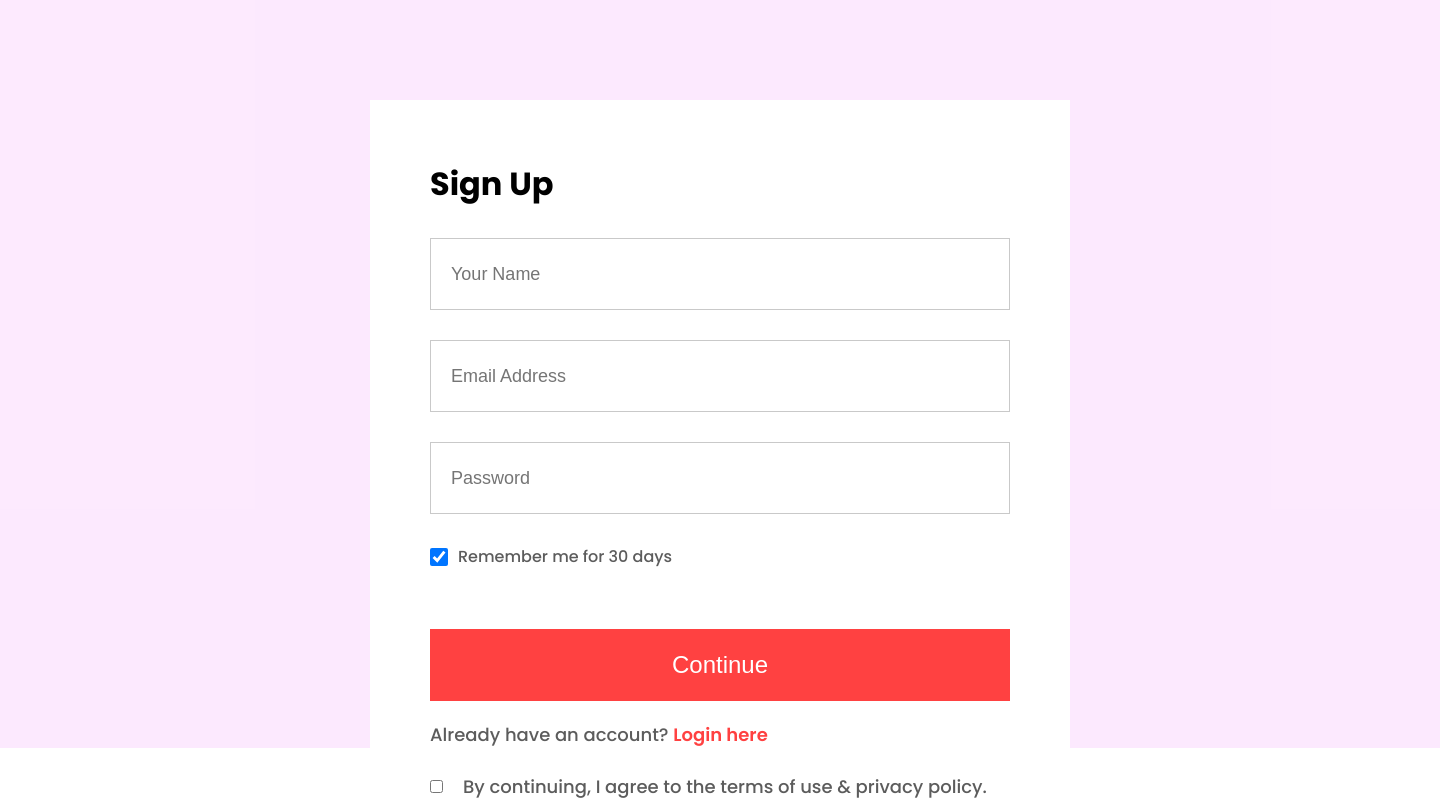
it: can switch to the Login view
Click the text "Login here": (720, 734) [673,722,768,747]
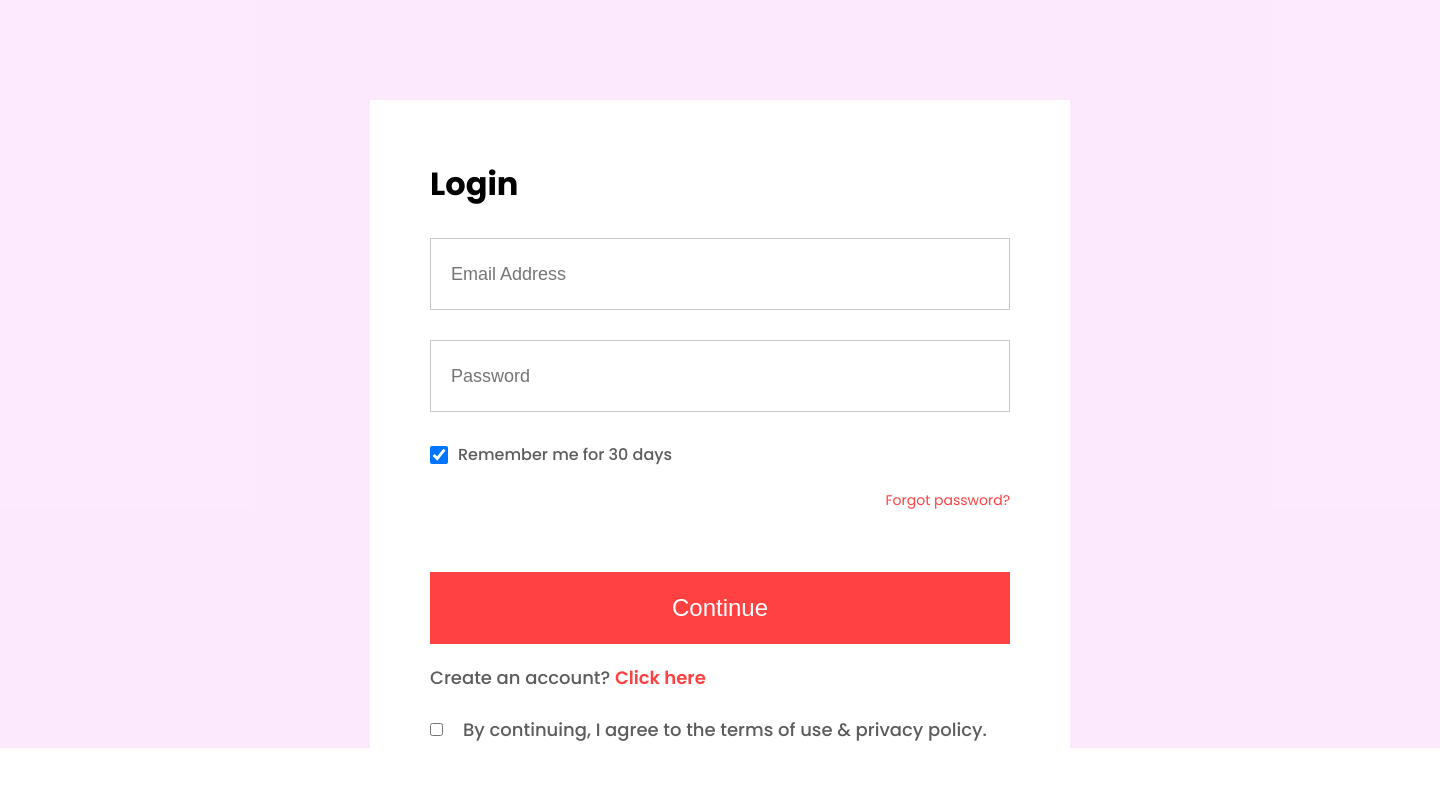
Now the field with placeholder "your name" is gone
